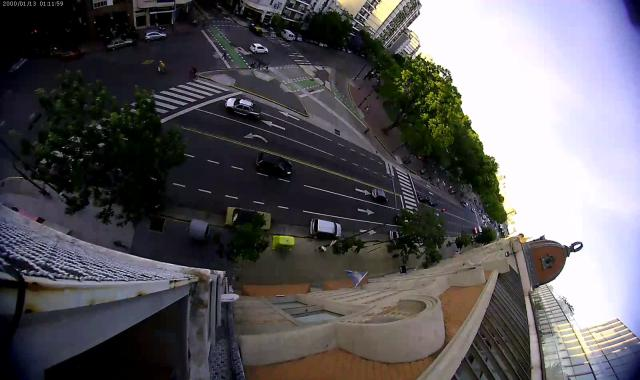bus: (474, 227, 482, 234)
car: (224, 206, 272, 232), (256, 152, 292, 176), (225, 97, 261, 120), (310, 218, 341, 238), (107, 38, 133, 51), (144, 29, 167, 43), (59, 48, 81, 59), (372, 189, 388, 202), (250, 43, 268, 54), (280, 29, 294, 41), (249, 26, 263, 36), (417, 194, 429, 202), (389, 230, 398, 239), (428, 198, 438, 206), (296, 33, 302, 42), (214, 3, 222, 9), (302, 37, 309, 42), (313, 40, 319, 45), (319, 41, 324, 47), (346, 48, 351, 54), (341, 47, 346, 52), (460, 200, 465, 205), (309, 39, 313, 44), (471, 208, 476, 212), (324, 43, 328, 47), (464, 202, 468, 206), (293, 35, 295, 40)
